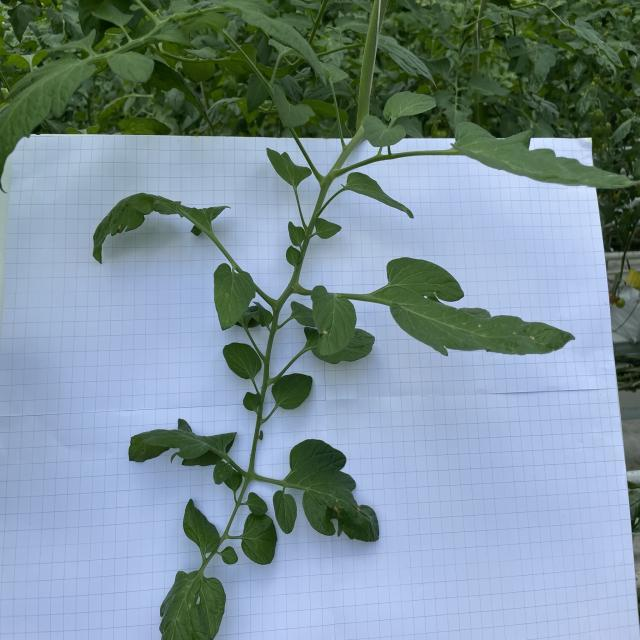Tomato healthy leaf: (0, 54, 96, 195), (450, 120, 640, 190), (220, 0, 328, 88), (141, 55, 215, 136), (128, 418, 238, 463), (341, 171, 414, 219), (377, 39, 438, 91), (213, 262, 256, 332), (570, 17, 624, 69), (182, 498, 221, 554), (272, 82, 316, 129), (240, 512, 278, 566), (265, 146, 313, 187), (196, 96, 242, 135), (383, 90, 437, 122), (108, 50, 156, 84), (272, 372, 312, 411), (222, 342, 262, 379), (362, 115, 406, 148), (146, 22, 197, 50), (272, 490, 298, 536), (92, 0, 134, 28), (8, 3, 36, 43), (246, 72, 270, 114), (315, 216, 342, 240), (247, 491, 268, 516), (288, 221, 306, 247)
